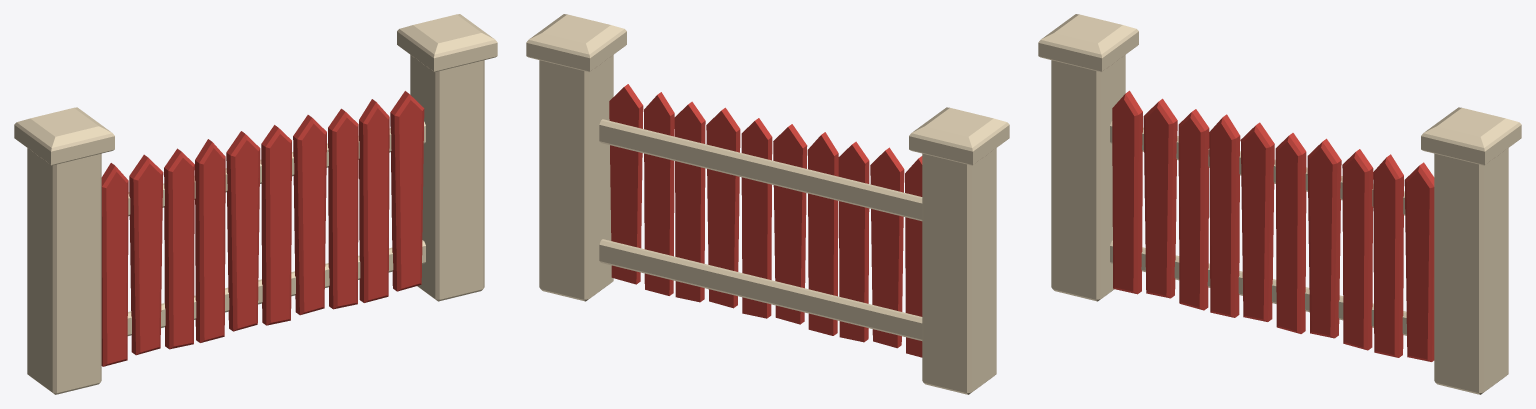
Rendered from fence_a.gltf.
3 renders of one model, left to right at view 1: azimuth 30°, elevation 25°; view 2: azimuth 150°, elevation 25°; view 3: azimuth 330°, elevation 25°, orthographic.
Parts seen in each view (by area): view 1: fence_a001; view 2: fence_a001; view 3: fence_a001.
Part boxes in pixels (x1,y1,x2,y2): fence_a001: (14,14,497,394); fence_a001: (526,14,1009,394); fence_a001: (1038,14,1521,394).
Bounding box in the file's own units: 1.82 × 1 × 0.26.
Materials: 1 (1 with a texture image).
